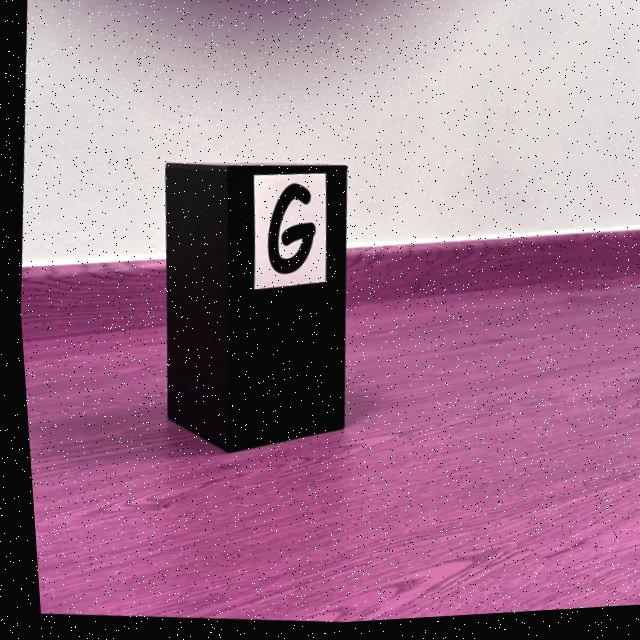G: (263, 186, 312, 276)
